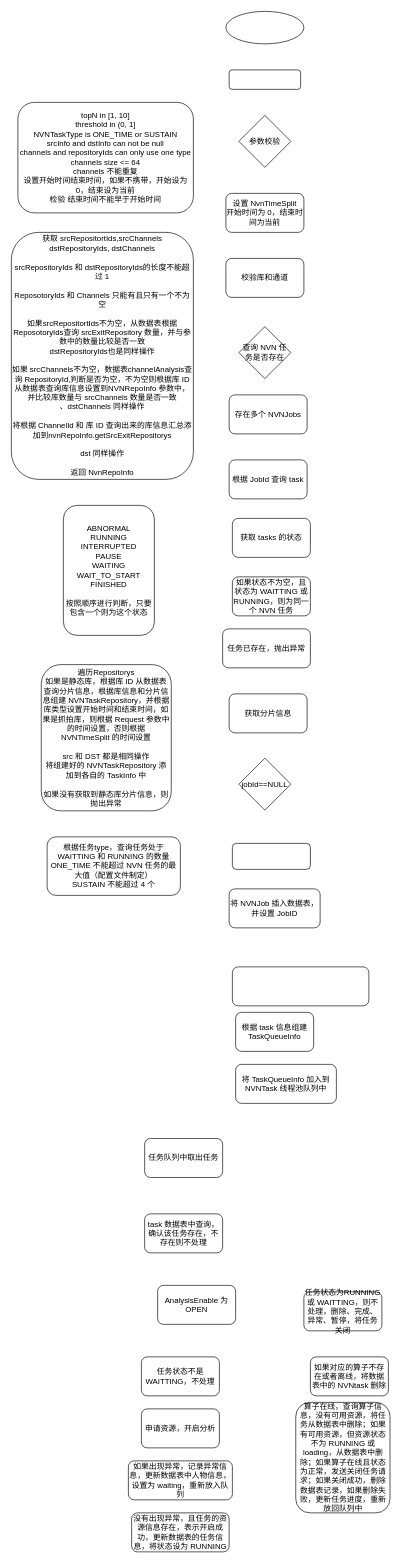
The diagram is 402 pixels wide and 1563 high, and some of its shapes have lost their labels. The shapes that lost their labels are listed below. From the top down, each one's centre as x and y in pixels, then its label:
At pixel 264 27: "Sass 下发任务".
At pixel 264 79: "设置 UID".
At pixel 271 856: "判断 NVN 能力集".
At pixel 300 986: "根据 Request 参数和 NVNRepoInfo 组建 NVNTaskParam，并保存到数据表task 中".
